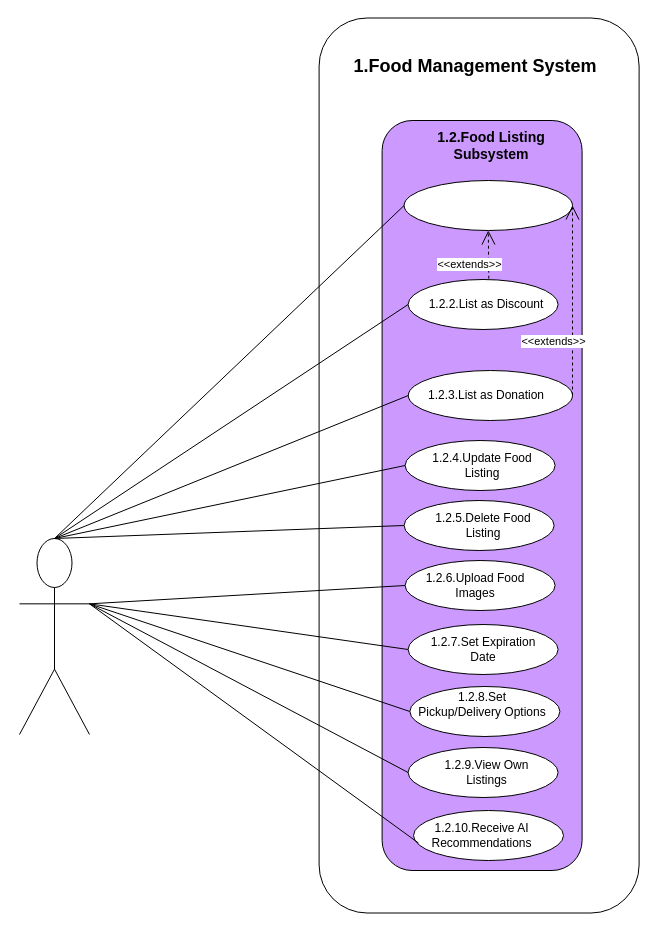
The diagram is 657 pixels wide and 930 high, and some of its shapes have lost their labels. The box of each missing label's shape, as (x1, y1, x2, y2) in pixels:
1.2.1.Create Food Listing: (403, 180, 572, 230)
Food Provider: (18, 538, 90, 734)
